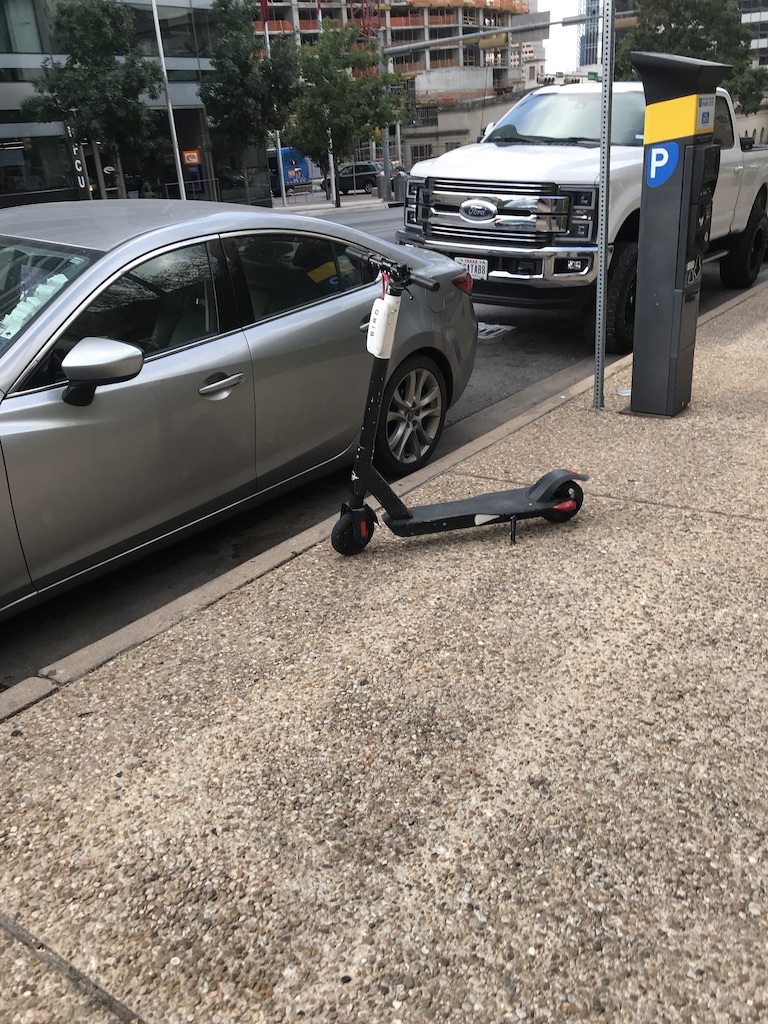scooter: (331, 247, 587, 560)
